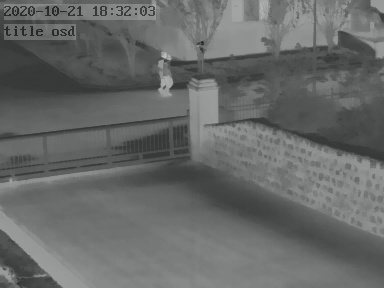person: (158, 51, 176, 94)
